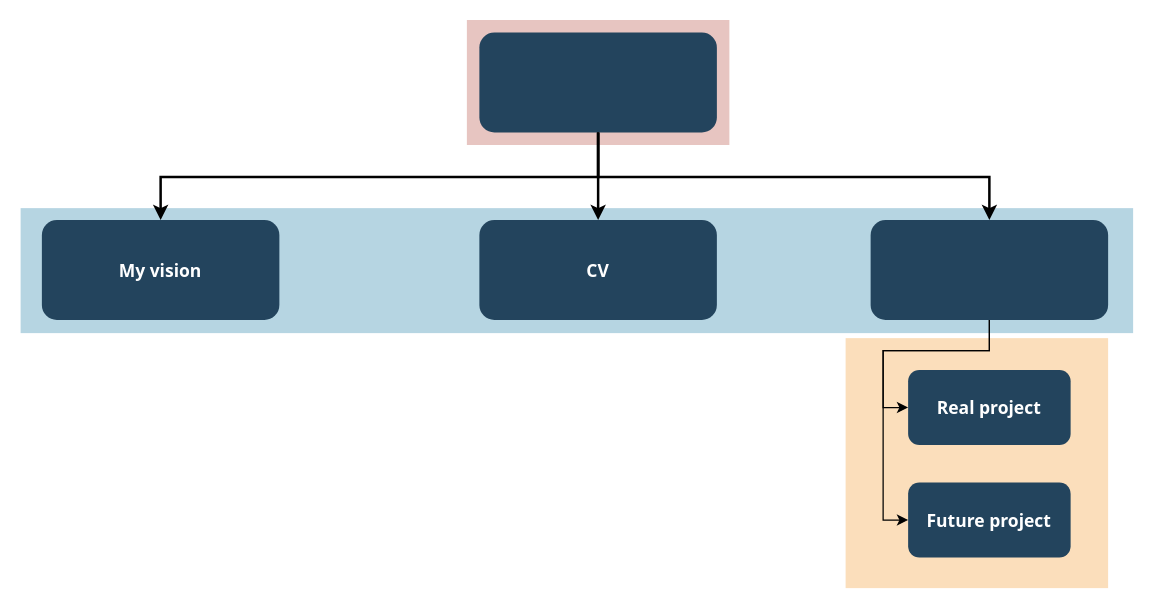
This 1154x609 diagram has some shape labels left out. Here are the shapes that lost their labels. From the top down, the centre of each, then its label:
pixel 597 82: Home page
pixel 989 269: Personal Project
